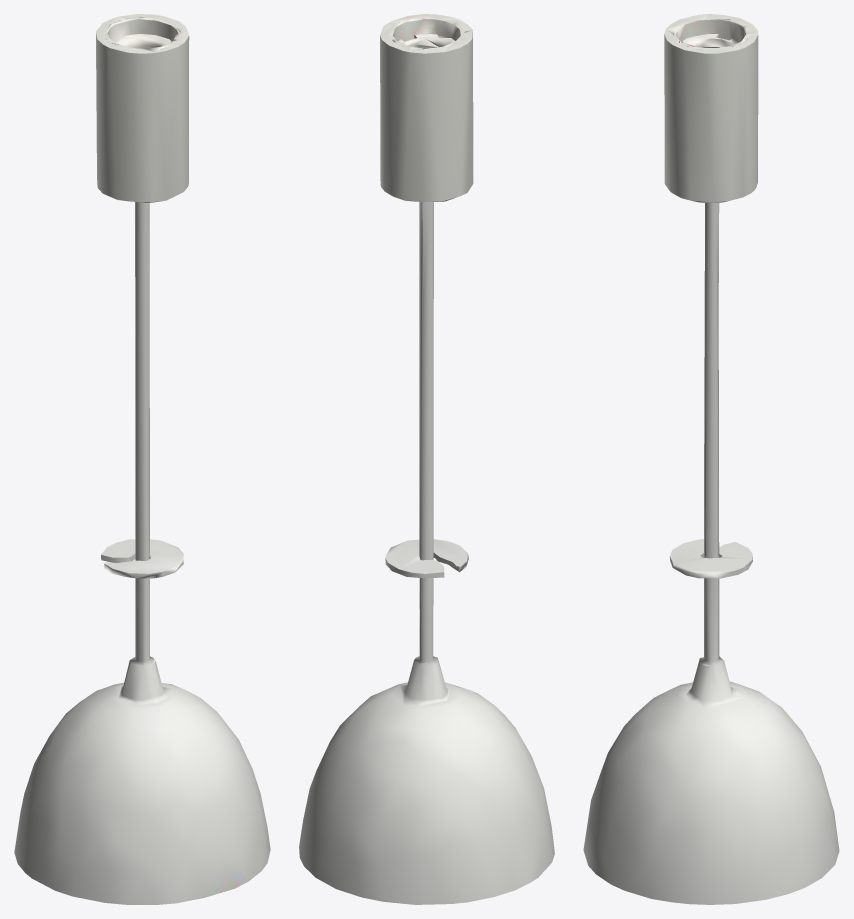
The model's file is 04 - SUNNEBY Cord set - white textile 1.8 m.glb.
3 views of the same model, side by side, from view 1: azimuth 30°, elevation 25°; view 2: azimuth 150°, elevation 25°; view 3: azimuth 270°, elevation 25° (orthographic).
Visible parts, largest first — view 1: 20420175-SUNNEBY001; view 2: 20420175-SUNNEBY001; view 3: 20420175-SUNNEBY001.
Part boxes in pixels (<box>): 20420175-SUNNEBY001: <box>14,14,270,904</box>; 20420175-SUNNEBY001: <box>299,14,554,904</box>; 20420175-SUNNEBY001: <box>583,14,839,904</box>.
Bounding box in the file's own units: 0.1324 × 0.4662 × 0.1322.
Materials: 2 (2 with a texture image).
